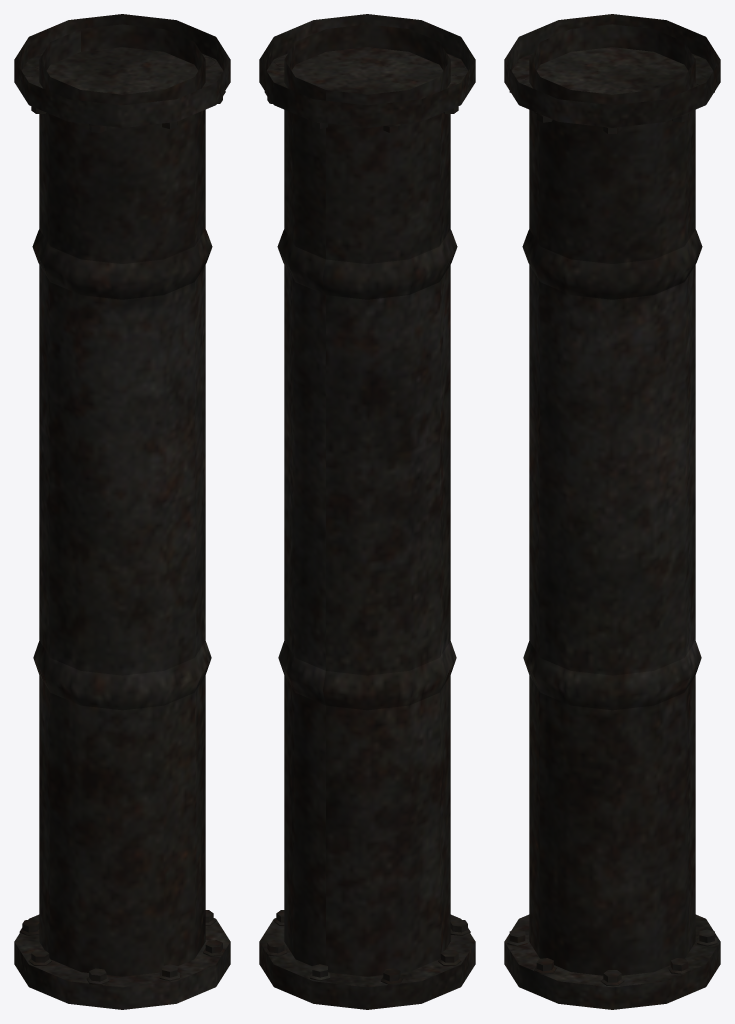
The model's file is pipe_1_short.obj.
3 renders of one model, left to right at view 1: azimuth 30°, elevation 25°; view 2: azimuth 150°, elevation 25°; view 3: azimuth 270°, elevation 25°, orthographic.
Parts seen in each view (by area): view 1: pipe_1_short; view 2: pipe_1_short; view 3: pipe_1_short.
Boxes of the visible parts, bbox=[...] form: pipe_1_short: bbox=[14, 14, 230, 1009]; pipe_1_short: bbox=[259, 14, 475, 1009]; pipe_1_short: bbox=[504, 14, 720, 1009].
Bounding box in the file's own units: 0.26 × 1.2 × 0.26.
